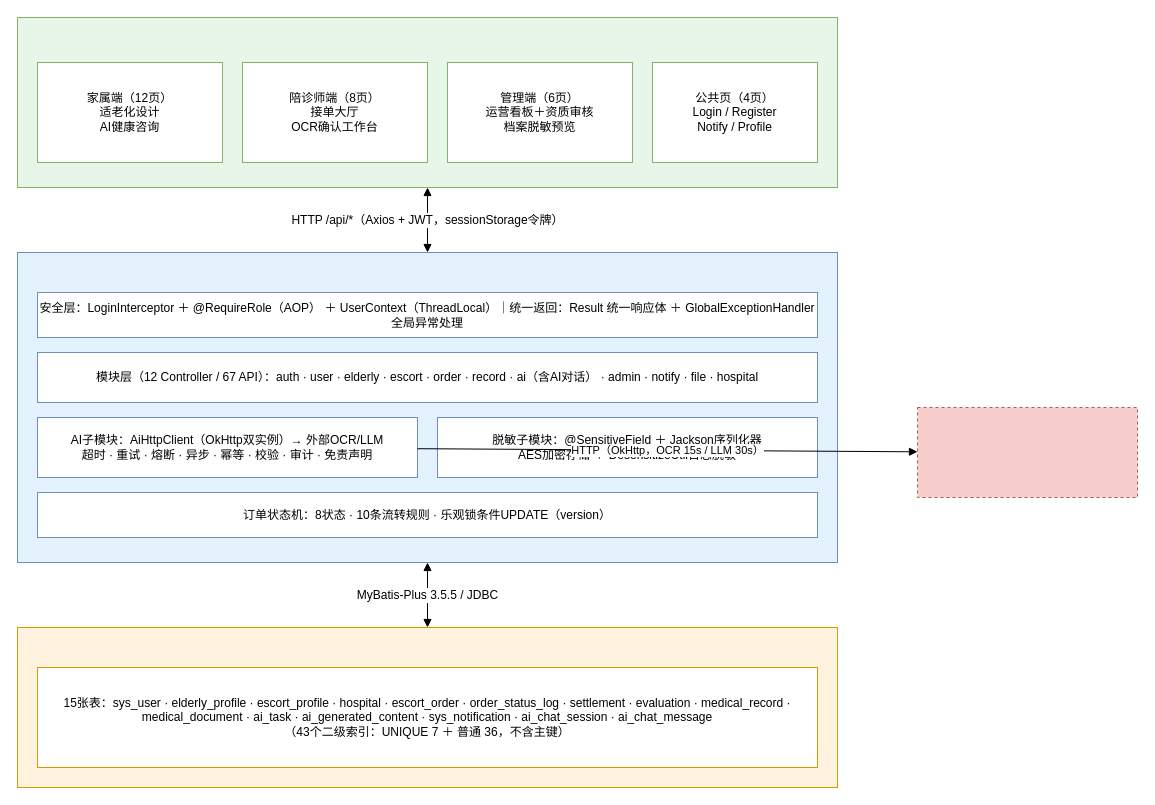
The diagram is 1155 pixels wide and 805 high, and some of its shapes have lost their labels. The box of each missing label's shape, as (x1, y1, x2, y2) in pixels:
前端展示层（Vue 3.4 + Vite 5 + Element Plus）: (16, 16, 838, 188)
后端服务层（SpringBoot 3.2.5 + JDK 17）: (16, 252, 838, 562)
外部AI服务（OCR / LLM） ${AI_OCR_BASE_URL} ${AI_LLM_BASE_URL} 【批次B：接入方式待Mock验收后据实填写】: (916, 406, 1138, 498)
数据持久层（MySQL 8.0 · InnoDB · utf8mb4 · 逻辑外键）: (16, 626, 838, 788)
